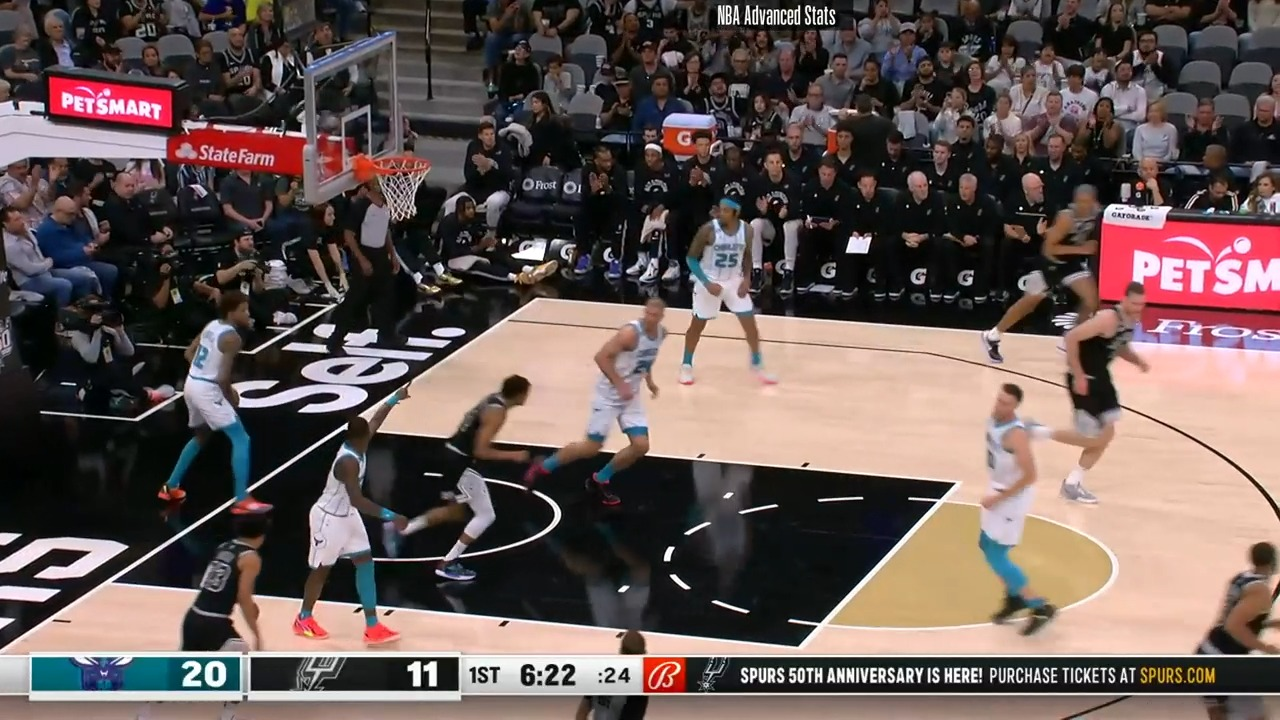net: (354, 145, 436, 222)
player: (293, 378, 416, 647), (525, 288, 674, 501), (384, 369, 540, 561), (1040, 279, 1160, 508), (962, 382, 1060, 645), (161, 288, 269, 520), (989, 179, 1113, 368), (678, 198, 773, 393), (176, 511, 278, 650), (1180, 541, 1275, 658)
referee: (336, 178, 410, 353)
